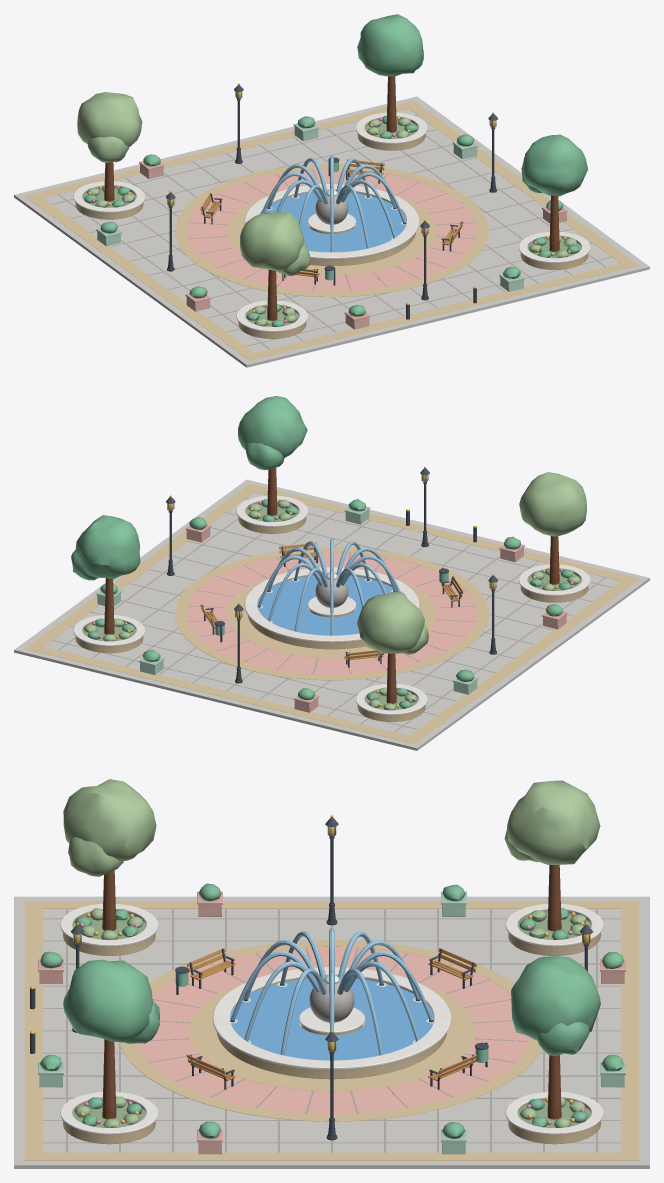
Rendered from city-plaza.glb.
3 renders of one model, top to bottom at view 1: azimuth 30°, elevation 25°; view 2: azimuth 150°, elevation 25°; view 3: azimuth 270°, elevation 25°, orthographic. The views are drawn at different scales.
Parts seen in each view (by area): view 1: city-plaza_ground_slab, city-plaza_body, city-plaza_fountain_water; view 2: city-plaza_ground_slab, city-plaza_body, city-plaza_fountain_water; view 3: city-plaza_ground_slab, city-plaza_body, city-plaza_fountain_water.
Part boxes in pixels (box(x1,y1,x2,y2)): city-plaza_ground_slab: box(14, 96, 649, 367); city-plaza_body: box(73, 14, 590, 338); city-plaza_fountain_water: box(260, 155, 406, 252); city-plaza_ground_slab: box(14, 479, 649, 750); city-plaza_body: box(71, 396, 590, 721); city-plaza_fountain_water: box(257, 538, 400, 635); city-plaza_ground_slab: box(14, 896, 649, 1168); city-plaza_body: box(30, 779, 625, 1154); city-plaza_fountain_water: box(230, 928, 433, 1060).
Bounding box in the file's own units: 24 × 6.94 × 24.
9 materials, 1 textured.
